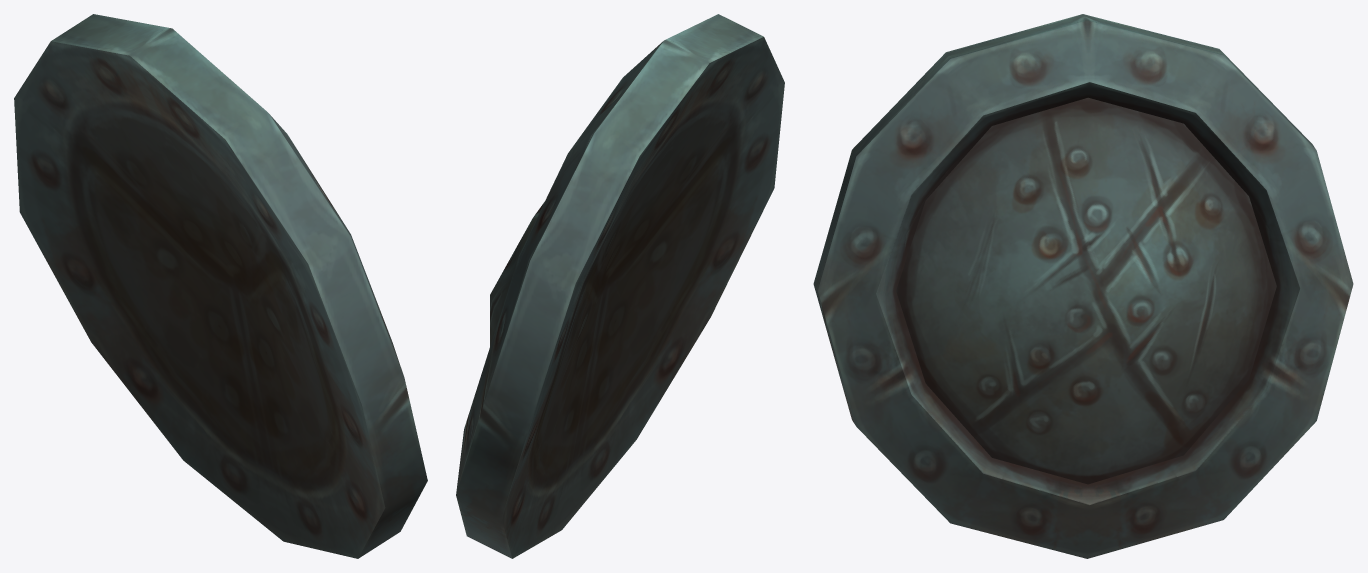
File: shieldInHand.FBX
3 views of the same model, side by side, from view 1: azimuth 30°, elevation 25°; view 2: azimuth 150°, elevation 25°; view 3: azimuth 270°, elevation 25° (orthographic). The views are drawn at different scales.
Parts seen in each view (by area): view 1: shield; view 2: shield; view 3: shield.
Part boxes in pixels (x1,y1,x2,y2): shield: [14, 14, 427, 558]; shield: [456, 14, 784, 558]; shield: [813, 14, 1353, 558].
Bounding box in the file's own units: 15.45 × 37.74 × 38.17.
